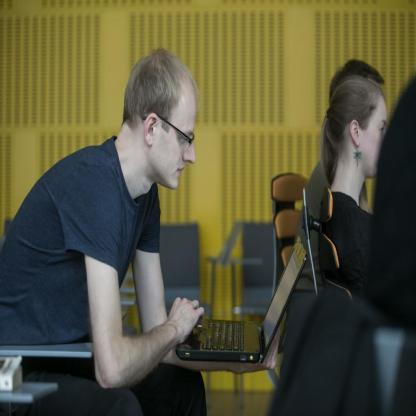board: (176, 236, 309, 360)
